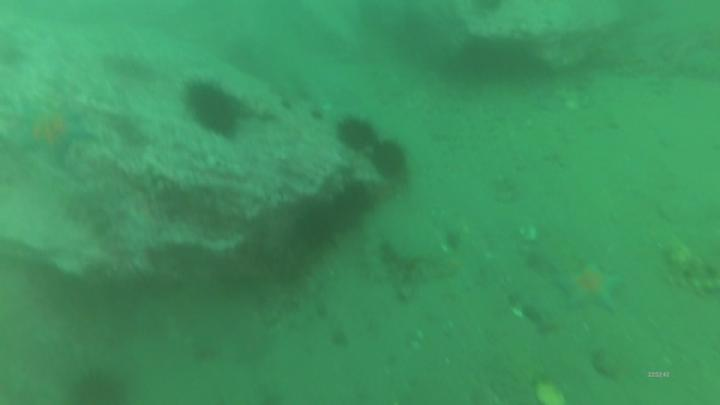echinus: (187, 88, 237, 138), (300, 211, 331, 250), (328, 195, 359, 234), (337, 119, 374, 151), (373, 141, 405, 177)
starfish: (22, 103, 91, 160), (557, 263, 623, 312)
